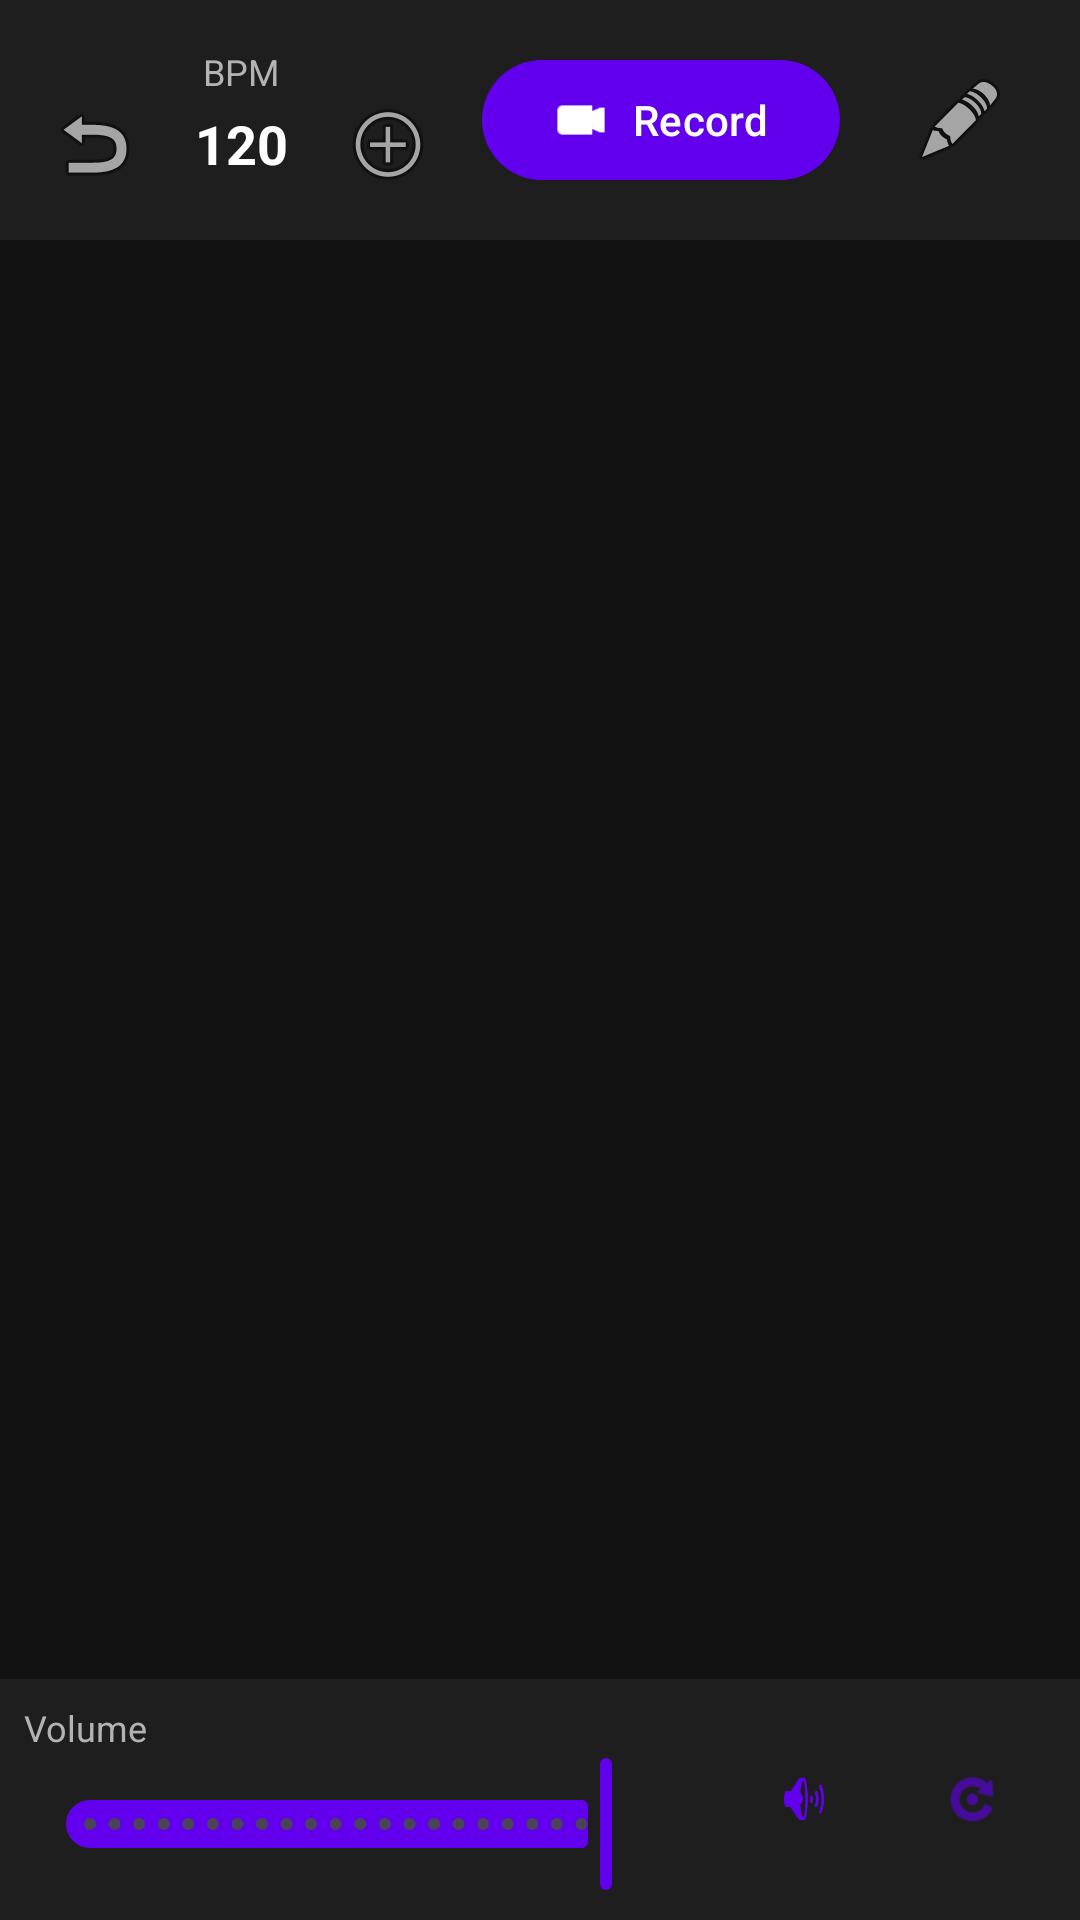

Locate icon controls on the screen. Image size 1080w x 1920h, boxes as region(x1, y1, x2, y2).
Increase BPM: region(355, 112, 421, 177)
Loop: region(950, 1777, 994, 1822)
